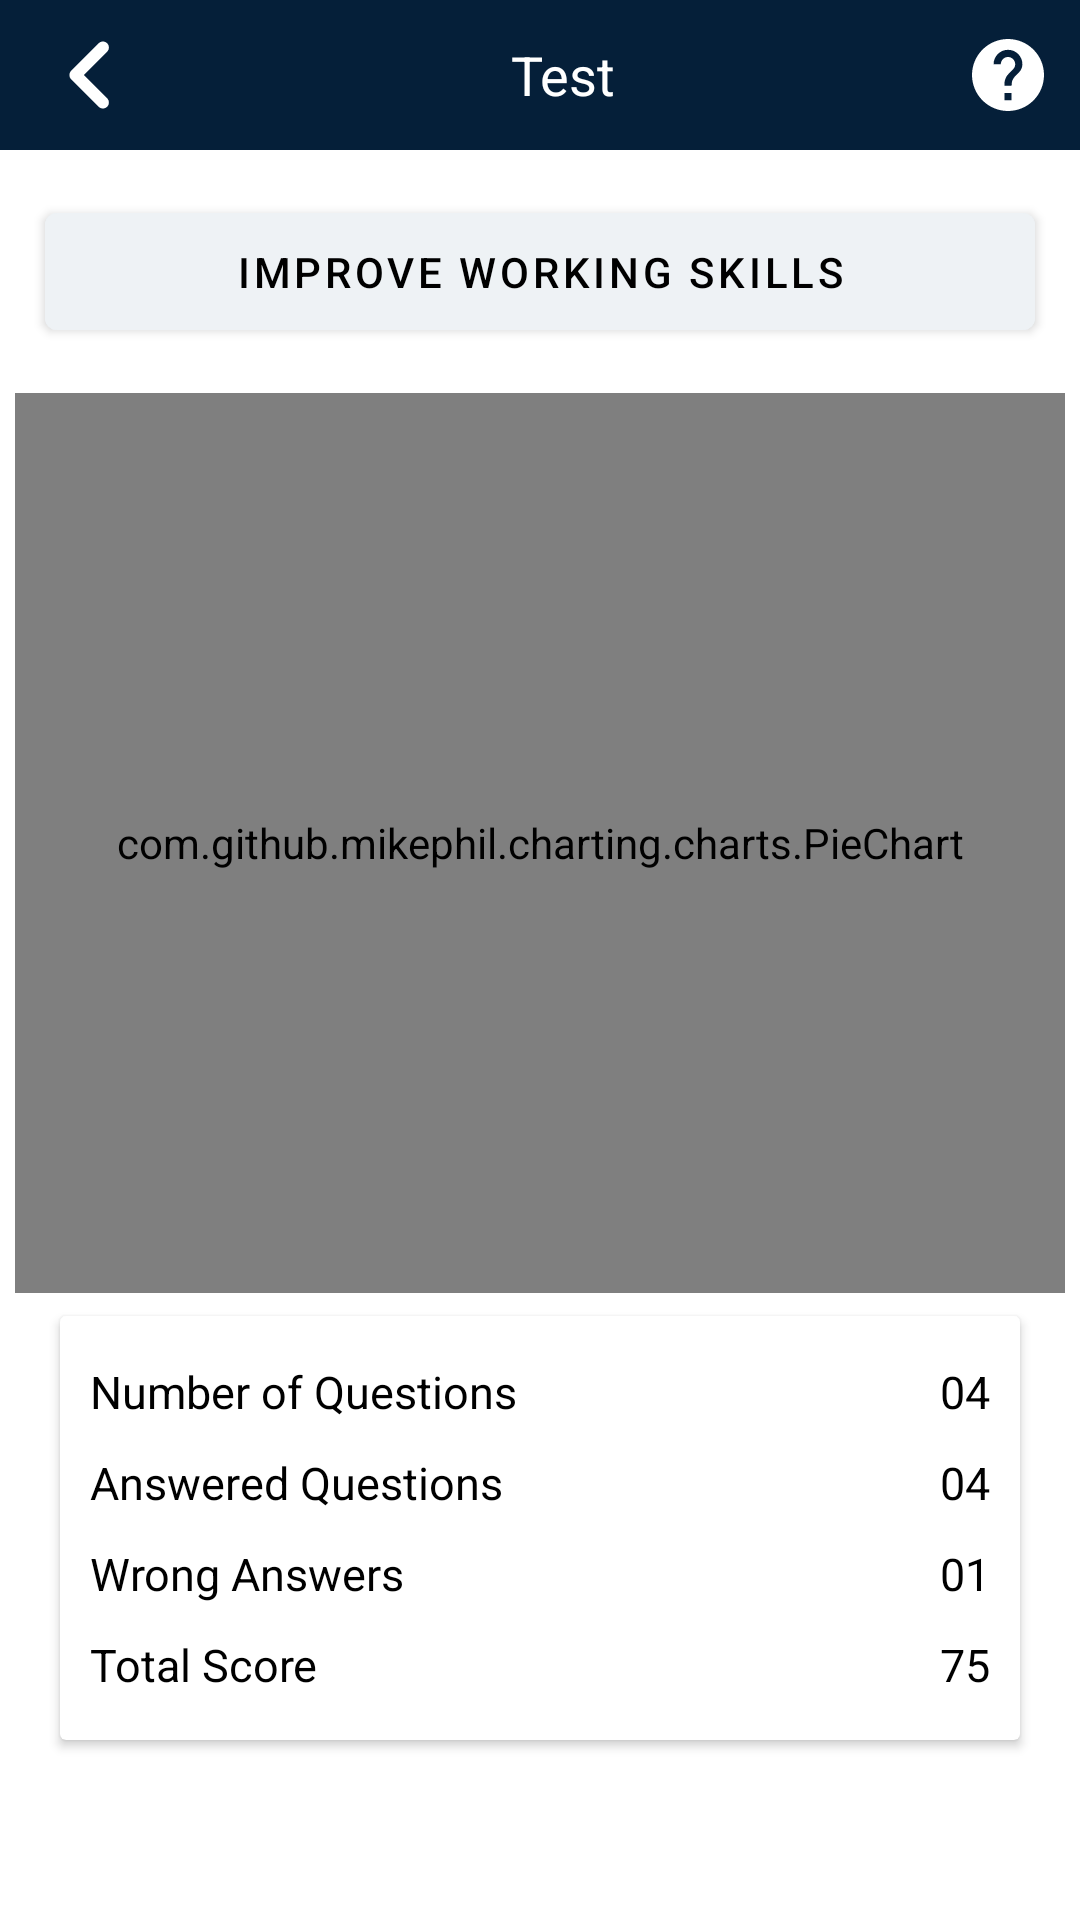

Where to tap for icons on this 1080w x 1920h app screen, as point (x, y):
question: point (1008, 75)
